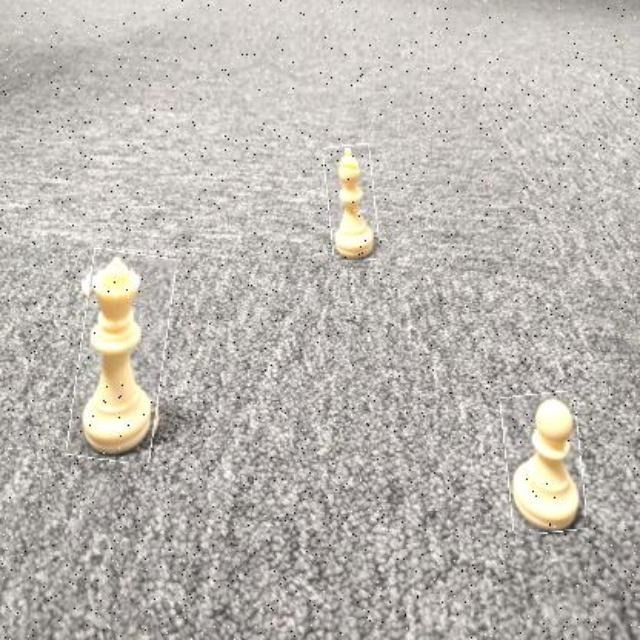white-bishop: (327, 144, 377, 260)
white-pawn: (505, 393, 585, 534)
white-queen: (75, 250, 169, 462)
